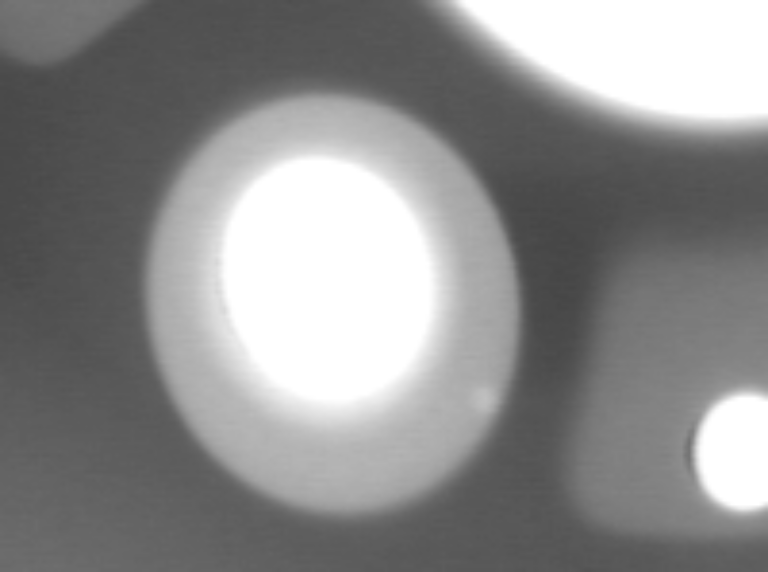defect: (472, 384, 511, 433)
